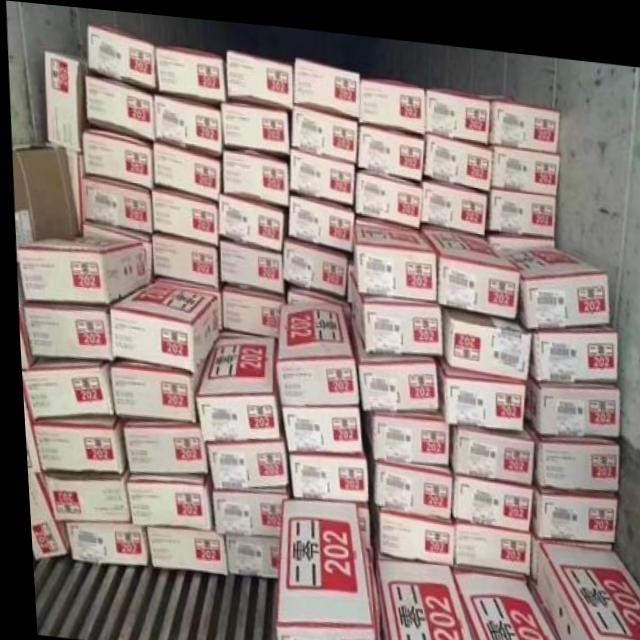box: (269, 493, 368, 640), (528, 532, 640, 640), (485, 226, 607, 319), (104, 279, 216, 369), (104, 332, 213, 418), (417, 215, 516, 309), (13, 233, 143, 303), (339, 310, 434, 403), (192, 332, 274, 439), (369, 551, 467, 640), (446, 563, 555, 640), (273, 298, 354, 399), (347, 263, 439, 350), (350, 207, 433, 293), (516, 408, 613, 480), (10, 143, 75, 247), (438, 297, 528, 369), (431, 350, 521, 420), (518, 366, 614, 427), (18, 359, 109, 422), (28, 411, 122, 471), (524, 311, 614, 371), (35, 461, 124, 519), (119, 469, 207, 527), (524, 474, 611, 532), (361, 400, 444, 457), (20, 303, 108, 356), (445, 418, 529, 473), (478, 85, 559, 142), (118, 418, 203, 472), (84, 74, 153, 138), (367, 457, 447, 512), (447, 466, 527, 521), (44, 49, 86, 151), (87, 19, 154, 82), (152, 39, 224, 97), (151, 92, 219, 152), (81, 126, 150, 185), (279, 231, 345, 292), (292, 51, 359, 111), (276, 399, 358, 448), (80, 219, 149, 277), (422, 124, 492, 181), (289, 98, 356, 157), (374, 502, 447, 556), (447, 514, 524, 565), (201, 435, 281, 484), (225, 44, 291, 103), (149, 184, 216, 242), (81, 172, 149, 229), (353, 162, 419, 220), (220, 144, 287, 201), (153, 138, 218, 196), (286, 189, 353, 245), (149, 229, 216, 285), (424, 79, 490, 135), (22, 472, 64, 560), (138, 524, 220, 569), (356, 116, 423, 171), (418, 171, 485, 226), (219, 96, 288, 149), (58, 520, 143, 563), (217, 188, 281, 245), (283, 446, 362, 492), (288, 142, 352, 197), (206, 486, 284, 531), (488, 135, 558, 184), (359, 72, 424, 124), (217, 237, 281, 286), (217, 282, 281, 331), (486, 179, 552, 226), (218, 528, 273, 572), (61, 146, 82, 233), (284, 280, 348, 308), (18, 391, 35, 472), (351, 498, 364, 538)
